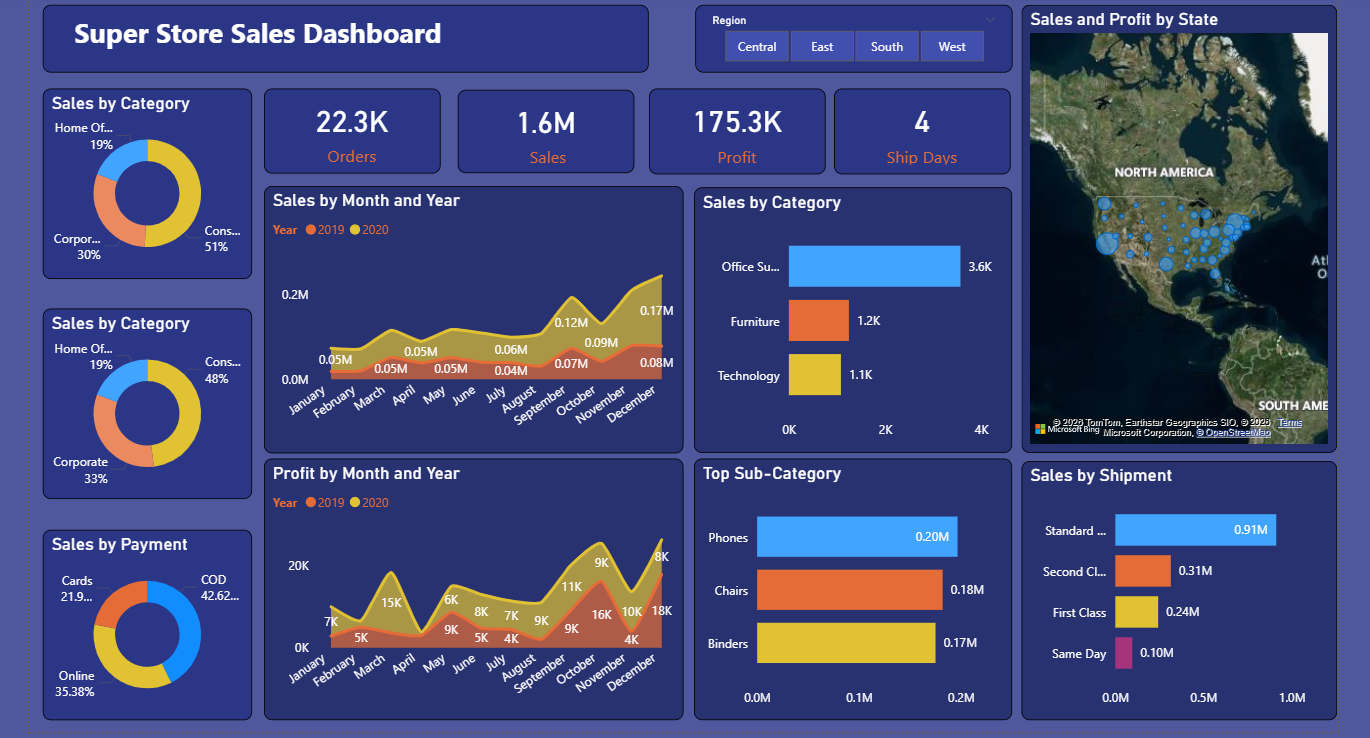

Layout of this report page (visuals, bound fields, positions):
{"tool":"powerbi","page":{"name":"Page 1","canvas":[1280,720],"ordinal":0},"visuals":[{"type":"clusteredBarChart","title":"Sales by Category","fields":{"Y":["CountNonNull(SuperStore_Sales_Dataset.Sub-Category)"],"Category":["SuperStore_Sales_Dataset.Category"]},"box":[650,187.5,311.2,260],"z":0},{"type":"clusteredBarChart","title":"Top Sub-Category","fields":{"Y":["Sum(SuperStore_Sales_Dataset.Sales)"],"Category":["SuperStore_Sales_Dataset.Sub-Category"]},"box":[650,452.5,311.2,256.2],"z":1000},{"type":"clusteredBarChart","title":"Sales by Shipment","fields":{"Y":["Sum(SuperStore_Sales_Dataset.Sales)"],"Category":["SuperStore_Sales_Dataset.Ship Mode"]},"box":[971.2,455,308.8,253.8],"z":2000},{"type":"stackedAreaChart","fields":{"Category":["SuperStore_Sales_Dataset.Order Date.Variation.Date Hierarchy.Month","SuperStore_Sales_Dataset.Order Date.Variation.Date Hierarchy.Day"],"Y":["Sum(SuperStore_Sales_Dataset.Sales)"],"Series":["SuperStore_Sales_Dataset.Order Date.Variation.Date Hierarchy.Year"]},"box":[229.9,187.1,409.6,260.5],"z":3000},{"type":"stackedAreaChart","fields":{"Category":["SuperStore_Sales_Dataset.Order Date.Variation.Date Hierarchy.Month","SuperStore_Sales_Dataset.Order Date.Variation.Date Hierarchy.Day"],"Series":["SuperStore_Sales_Dataset.Order Date.Variation.Date Hierarchy.Year"],"Y":["Sum(SuperStore_Sales_Dataset.Profit)"]},"box":[230,452.5,410,256.2],"z":4000},{"type":"map","title":"Sales and  Profit by State","fields":{"Category":["SuperStore_Sales_Dataset.State"],"Size":["Sum(SuperStore_Sales_Dataset.Sales)"]},"box":[971.2,8.8,308.8,438.8],"z":5000},{"type":"donutChart","title":"Sales by Category","fields":{"Category":["SuperStore_Sales_Dataset.Segment","SuperStore_Sales_Dataset.Category"],"Y":["Sum(SuperStore_Sales_Dataset.Sales)"]},"box":[13.8,306.2,205,186.2],"z":7000},{"type":"donutChart","title":"Sales by Payment","fields":{"Category":["SuperStore_Sales_Dataset.Payment Mode"],"Y":["Sum(SuperStore_Sales_Dataset.Sales)"]},"box":[13.8,522.5,205,186.2],"z":8000},{"type":"slicer","fields":{"Values":["SuperStore_Sales_Dataset.Region"]},"box":[651.2,8.8,310,66.2],"z":9000},{"type":"textbox","box":[13.8,8.8,592.5,66.2],"z":10000},{"type":"card","fields":{"Values":["Sum(SuperStore_Sales_Dataset.Sales)"]},"box":[419.4,91.7,172.4,81.9],"z":11000},{"type":"card","fields":{"Values":["Sum(SuperStore_Sales_Dataset.Quantity)"]},"box":[229.9,90.5,172.4,83.2],"z":12000},{"type":"card","fields":{"Values":["Sum(SuperStore_Sales_Dataset.Profit)"]},"box":[606.2,90,172.5,83.8],"z":13000},{"type":"card","fields":{"Values":["Avg(SuperStore_Sales_Dataset.Average delivery)"]},"box":[787.5,90,172.5,83.8],"z":14000},{"type":"donutChart","title":"Sales by Category","fields":{"Category":["SuperStore_Sales_Dataset.Segment","SuperStore_Sales_Dataset.Category"],"Y":["CountNonNull(SuperStore_Sales_Dataset.Region)"]},"box":[13.8,90,205,186.2],"z":15000}]}

Visuals, with their boxes on the page's 1280x720 design canvas (x1, y1, x2, y2). These are canvas units, not pixel positions in the 1370x738 screenshot, which may show the page scaled, cropped or inside an application window:
"Sales by Category" clusteredBarChart: (x1=650, y1=188, x2=961, y2=448)
"Top Sub-Category" clusteredBarChart: (x1=650, y1=452, x2=961, y2=709)
"Sales by Shipment" clusteredBarChart: (x1=971, y1=455, x2=1280, y2=709)
stackedAreaChart - SuperStore_Sales_Dataset.Order Date.Variation.Date Hierarchy.Month x SuperStore_Sales_Dataset.Order Date.Variation.Date Hierarchy.Day: (x1=230, y1=187, x2=640, y2=448)
stackedAreaChart - SuperStore_Sales_Dataset.Order Date.Variation.Date Hierarchy.Month x SuperStore_Sales_Dataset.Order Date.Variation.Date Hierarchy.Day: (x1=230, y1=452, x2=640, y2=709)
"Sales and  Profit by State" map: (x1=971, y1=9, x2=1280, y2=448)
"Sales by Category" donutChart: (x1=14, y1=306, x2=219, y2=492)
"Sales by Payment" donutChart: (x1=14, y1=522, x2=219, y2=709)
slicer - SuperStore_Sales_Dataset.Region: (x1=651, y1=9, x2=961, y2=75)
textbox: (x1=14, y1=9, x2=606, y2=75)
card - Sum(SuperStore_Sales_Dataset.Sales): (x1=419, y1=92, x2=592, y2=174)
card - Sum(SuperStore_Sales_Dataset.Quantity): (x1=230, y1=90, x2=402, y2=174)
card - Sum(SuperStore_Sales_Dataset.Profit): (x1=606, y1=90, x2=779, y2=174)
card - Avg(SuperStore_Sales_Dataset.Average delivery): (x1=788, y1=90, x2=960, y2=174)
"Sales by Category" donutChart: (x1=14, y1=90, x2=219, y2=276)
